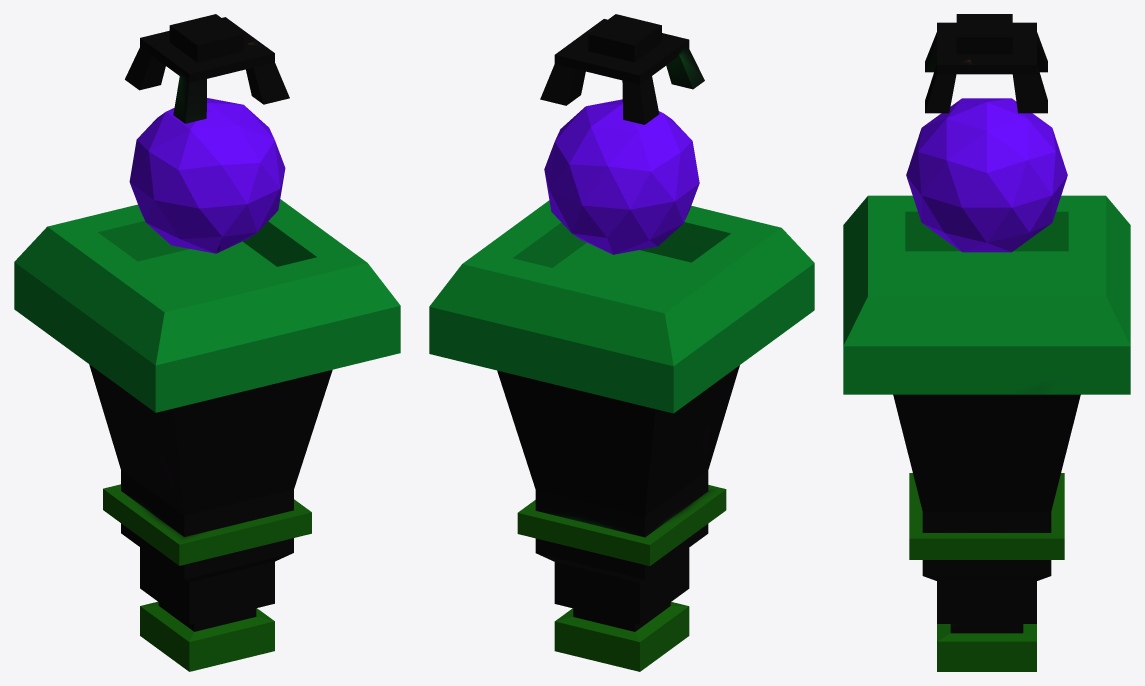
The model's file is def2.fbx.
The picture shows the model from 3 angles, left to right: view 1: azimuth 30°, elevation 25°; view 2: azimuth 150°, elevation 25°; view 3: azimuth 270°, elevation 25°; orthographic projection.
Visible parts, largest first — view 1: Cube; view 2: Cube; view 3: Cube.
Part boxes in pixels (box(x1,y1,x2,y2)): Cube: box(14, 14, 400, 671); Cube: box(429, 14, 814, 671); Cube: box(843, 14, 1130, 671).
Bounding box in the file's own units: 573 × 1374 × 573.
1 material, 1 textured.
